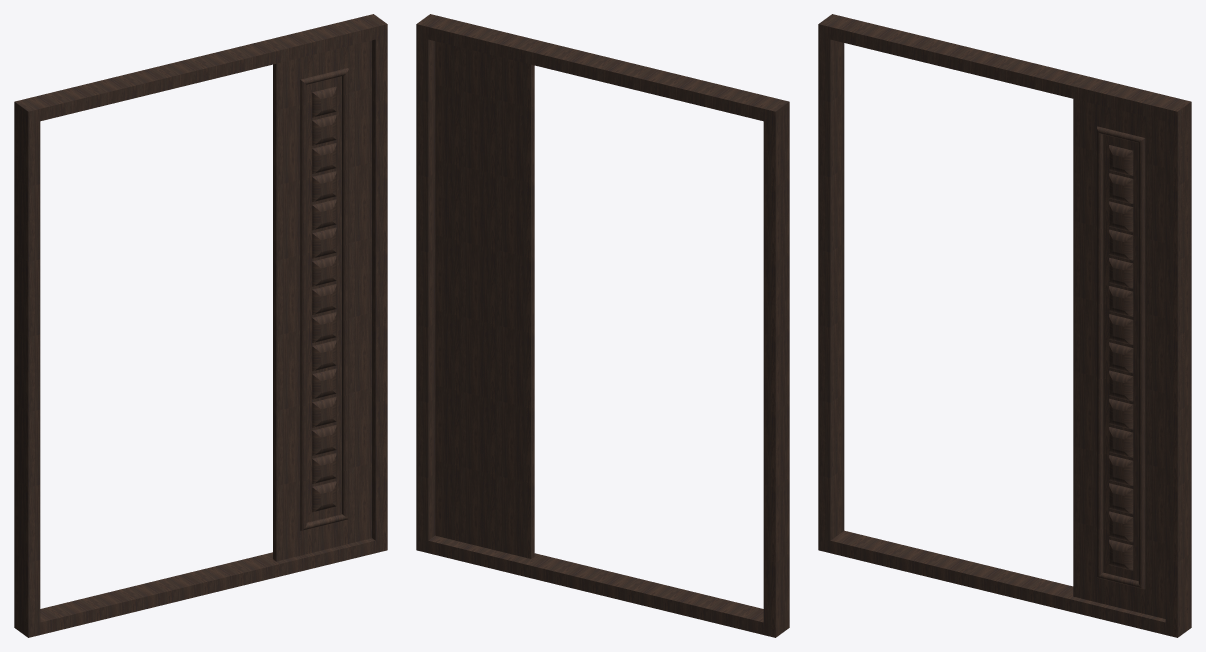
File: frame.dae
3 renders of one model, left to right at view 1: azimuth 30°, elevation 25°; view 2: azimuth 150°, elevation 25°; view 3: azimuth 330°, elevation 25°, orthographic.
Visible parts, largest first — view 1: OuterShell, group_2.080, group_2.081, OuterShell.001, instance_3.012, instance_10.002, instance_14, instance_0.134, instance_1.007, instance_2.006, instance_6.003, instance_8.002 (+7 smaller); view 2: group_2.080, OuterShell, OuterShell.001; view 3: OuterShell, group_2.080, group_2.081, OuterShell.001, instance_3.012, instance_2.006, instance_10.002, instance_12, instance_13, instance_5.002, instance_7.003, instance_8.002 (+7 smaller).
Part boxes in pixels (x1=…): OuterShell: x1=14, y1=14, x2=387, y2=637; group_2.080: x1=273, y1=40, x2=371, y2=561; group_2.081: x1=300, y1=68, x2=348, y2=530; OuterShell.001: x1=40, y1=39, x2=375, y2=622; instance_3.012: x1=312, y1=481, x2=336, y2=512; instance_10.002: x1=312, y1=368, x2=336, y2=399; instance_14: x1=312, y1=340, x2=336, y2=371; instance_0.134: x1=312, y1=199, x2=336, y2=230; instance_1.007: x1=312, y1=227, x2=336, y2=258; instance_2.006: x1=312, y1=143, x2=336, y2=173; instance_6.003: x1=312, y1=453, x2=336, y2=483; instance_8.002: x1=312, y1=115, x2=336, y2=145; group_2.080: x1=435, y1=41, x2=534, y2=558; OuterShell: x1=416, y1=14, x2=789, y2=637; OuterShell.001: x1=428, y1=39, x2=763, y2=622; OuterShell: x1=818, y1=14, x2=1191, y2=637; group_2.080: x1=1073, y1=99, x2=1165, y2=618; group_2.081: x1=1097, y1=126, x2=1145, y2=589; OuterShell.001: x1=830, y1=39, x2=1165, y2=622; instance_3.012: x1=1109, y1=539, x2=1133, y2=570; instance_2.006: x1=1109, y1=201, x2=1133, y2=232; instance_10.002: x1=1109, y1=427, x2=1133, y2=457; instance_12: x1=1109, y1=342, x2=1133, y2=373; instance_13: x1=1109, y1=229, x2=1133, y2=260; instance_5.002: x1=1109, y1=455, x2=1133, y2=485; instance_7.003: x1=1109, y1=314, x2=1133, y2=344; instance_8.002: x1=1109, y1=173, x2=1133, y2=203.
Bounding box in the file's own units: 1.52 × 0.1016 × 2.13.
1 material, 1 textured.
